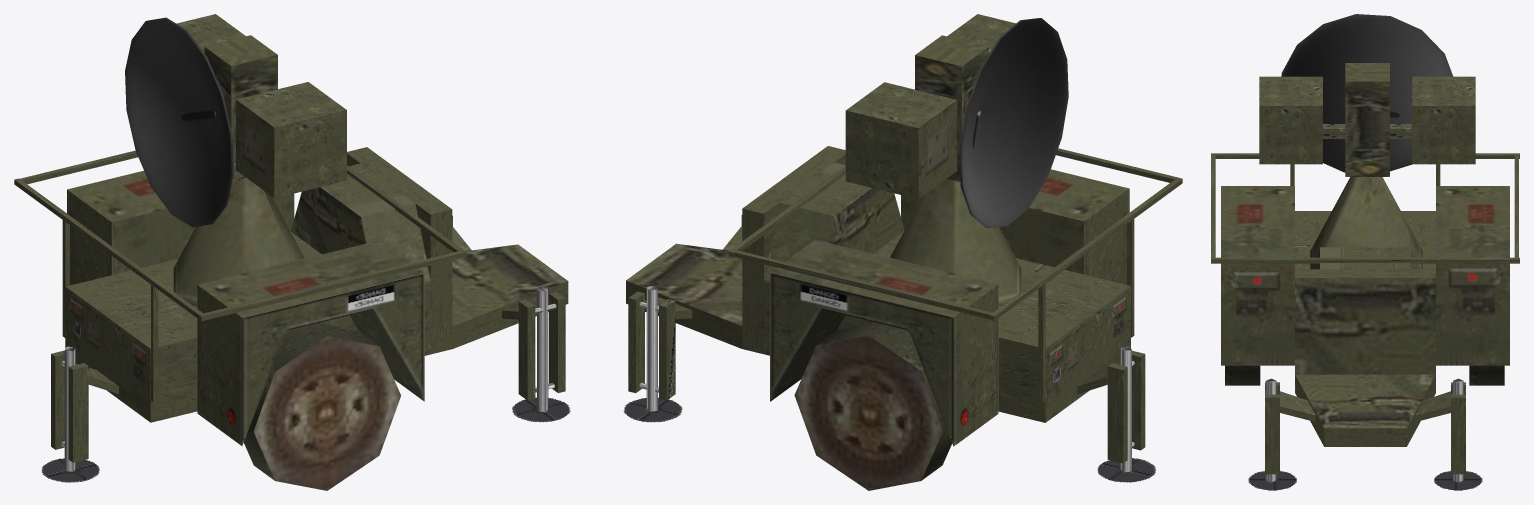
The model's file is IHAWK_ROR.fbx.
3 views of the same model, side by side, from view 1: azimuth 30°, elevation 25°; view 2: azimuth 150°, elevation 25°; view 3: azimuth 270°, elevation 25° (orthographic). The views are drawn at different scales.
Parts seen in each view (by area): view 1: polySurface101, ant_, ant_opora, Hawk_RLS_3_lapi_opor; view 2: polySurface101, ant_, ant_opora, Hawk_RLS_3_lapi_opor; view 3: polySurface101, ant_, ant_opora, Hawk_RLS_3_lapi_opor.
Part boxes in pixels (<box>): polySurface101: <box>14,147,568,490</box>; ant_: <box>125,14,346,227</box>; ant_opora: <box>173,178,304,306</box>; Hawk_RLS_3_lapi_opor: <box>41,397,570,482</box>; polySurface101: <box>626,146,1182,490</box>; ant_: <box>845,14,1068,228</box>; ant_opora: <box>890,179,1021,306</box>; Hawk_RLS_3_lapi_opor: <box>623,397,1155,482</box>; polySurface101: <box>1211,153,1519,482</box>; ant_: <box>1259,14,1475,176</box>; ant_opora: <box>1310,177,1422,269</box>; Hawk_RLS_3_lapi_opor: <box>1248,470,1482,490</box>.
Size of the model in its own units: 338 by 270 by 219.
